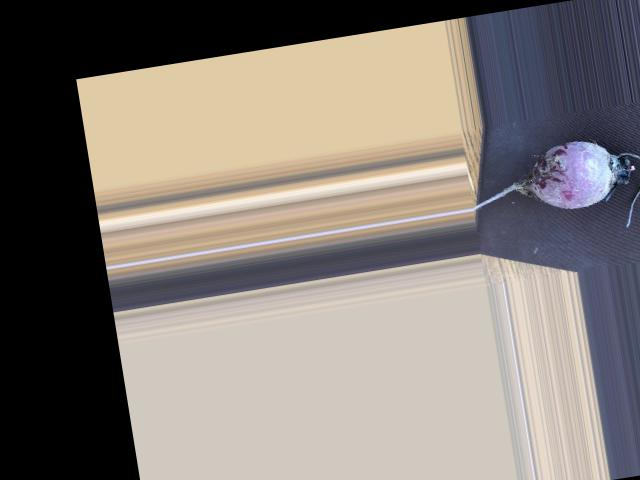beet: (463, 129, 640, 250)
